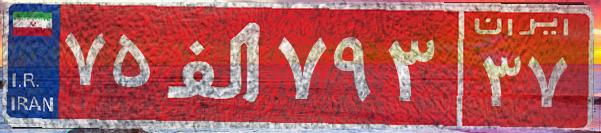3: (385, 28, 445, 110), (475, 38, 525, 113)
5: (110, 28, 158, 105)
7: (273, 28, 330, 110), (57, 26, 110, 107), (525, 38, 570, 115)
9: (330, 28, 385, 110)
الف: (158, 15, 273, 115)
